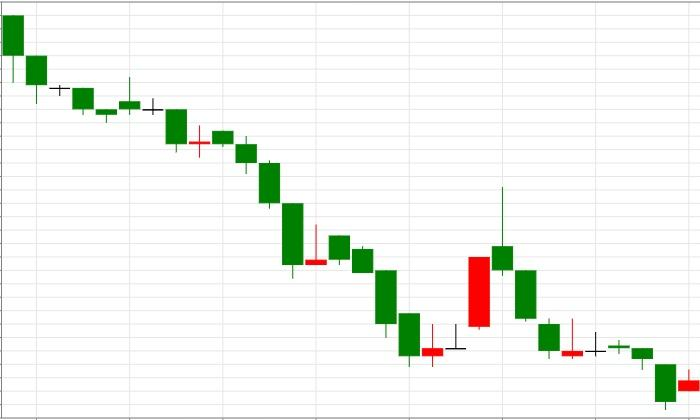shooting_star_fall: (399, 187, 513, 367)
